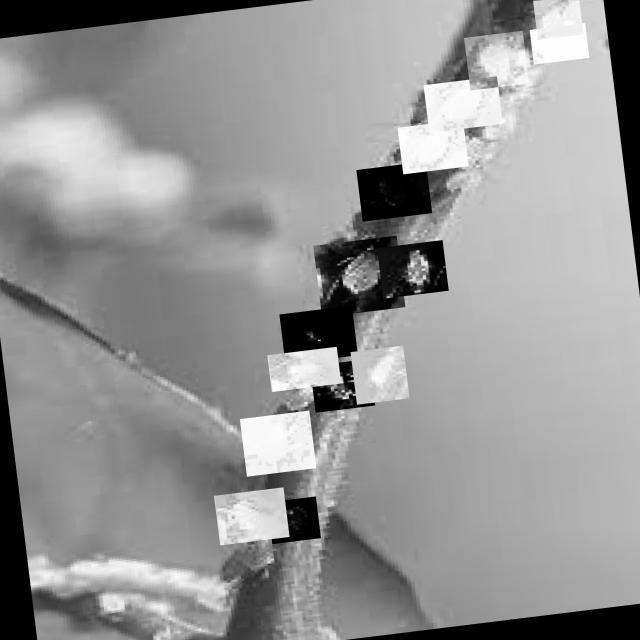aphid: (312, 235, 404, 316), (238, 410, 316, 476), (278, 304, 358, 363), (356, 160, 432, 220), (423, 75, 502, 132), (212, 486, 288, 544), (376, 238, 448, 298), (397, 118, 468, 173), (464, 29, 528, 89), (350, 344, 409, 403), (310, 358, 374, 412), (266, 346, 340, 390), (266, 495, 321, 543), (529, 22, 589, 64), (533, 0, 583, 38)
